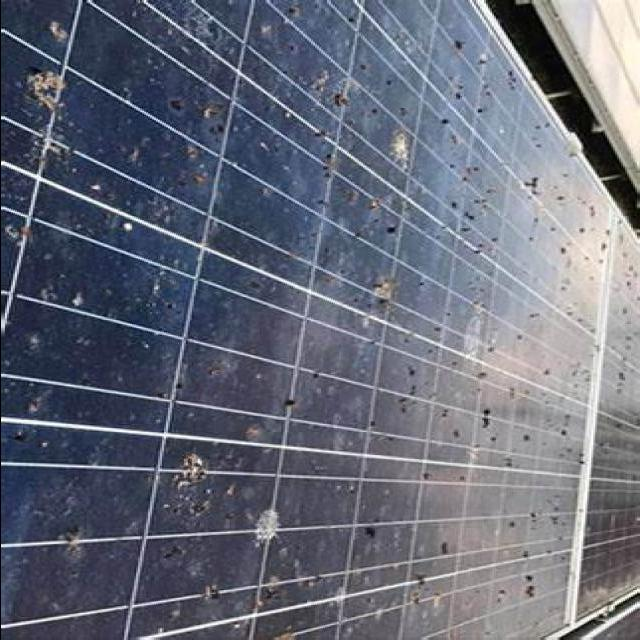soiled: (0, 1, 610, 640)
